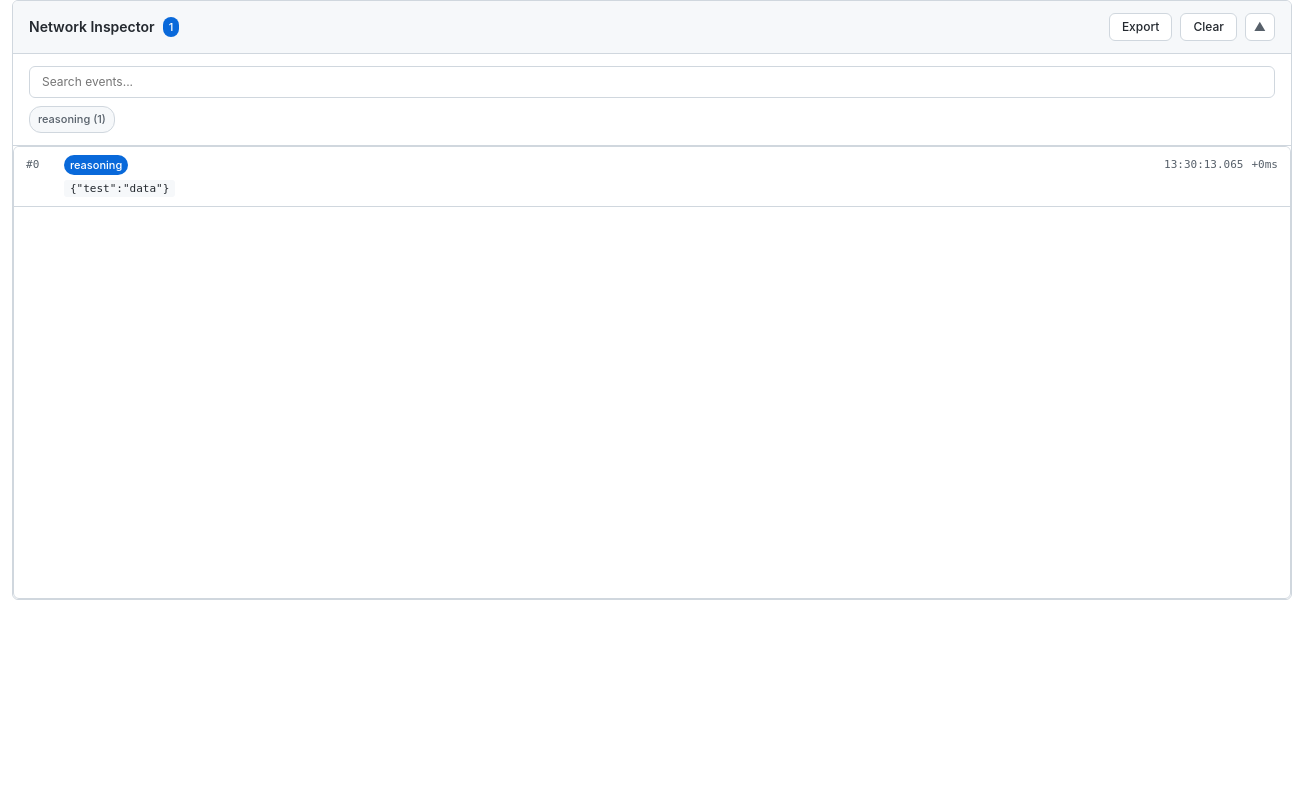
NetworkInspector › event selection and details › should show details panel when event is selected
Click the button "#0 reasoning 13:30:13.065 +0ms {\"test\":\"data\"}": (96, 165) [14,146,1290,206]
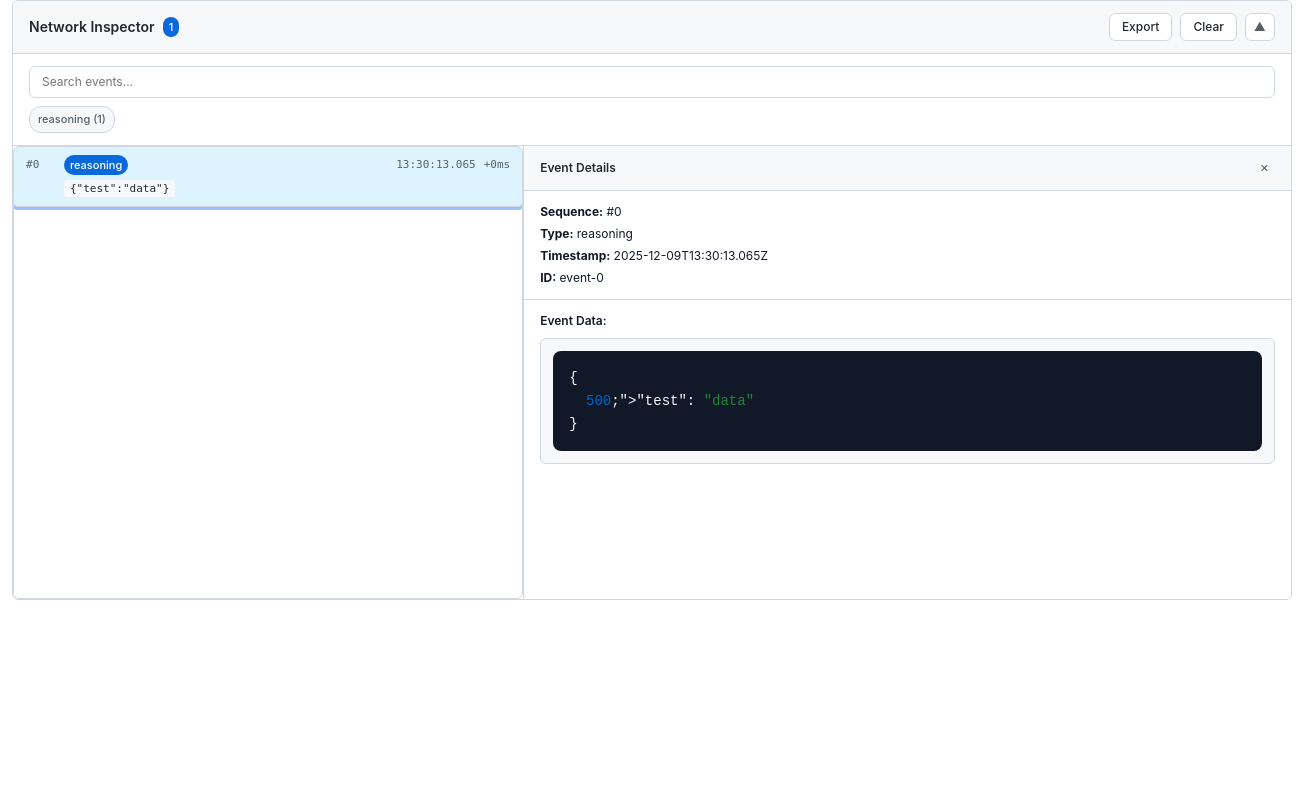
expect the text "Event Details" is shown: met, box [540,159,616,177]
